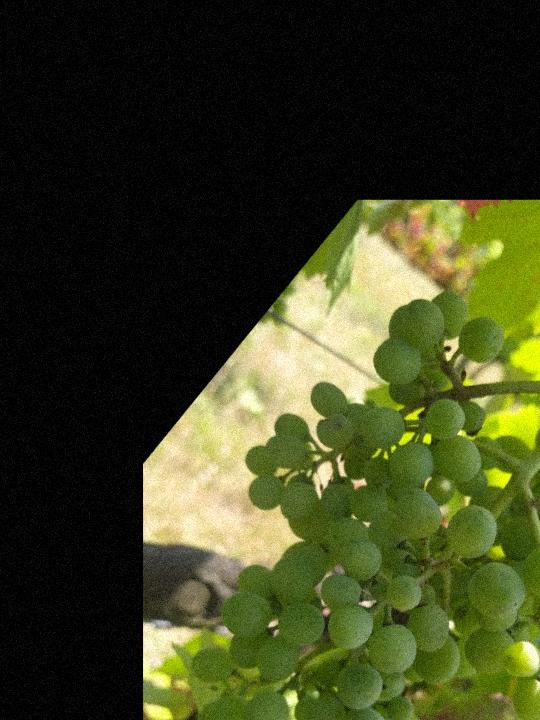grape: (47, 211, 540, 720)
